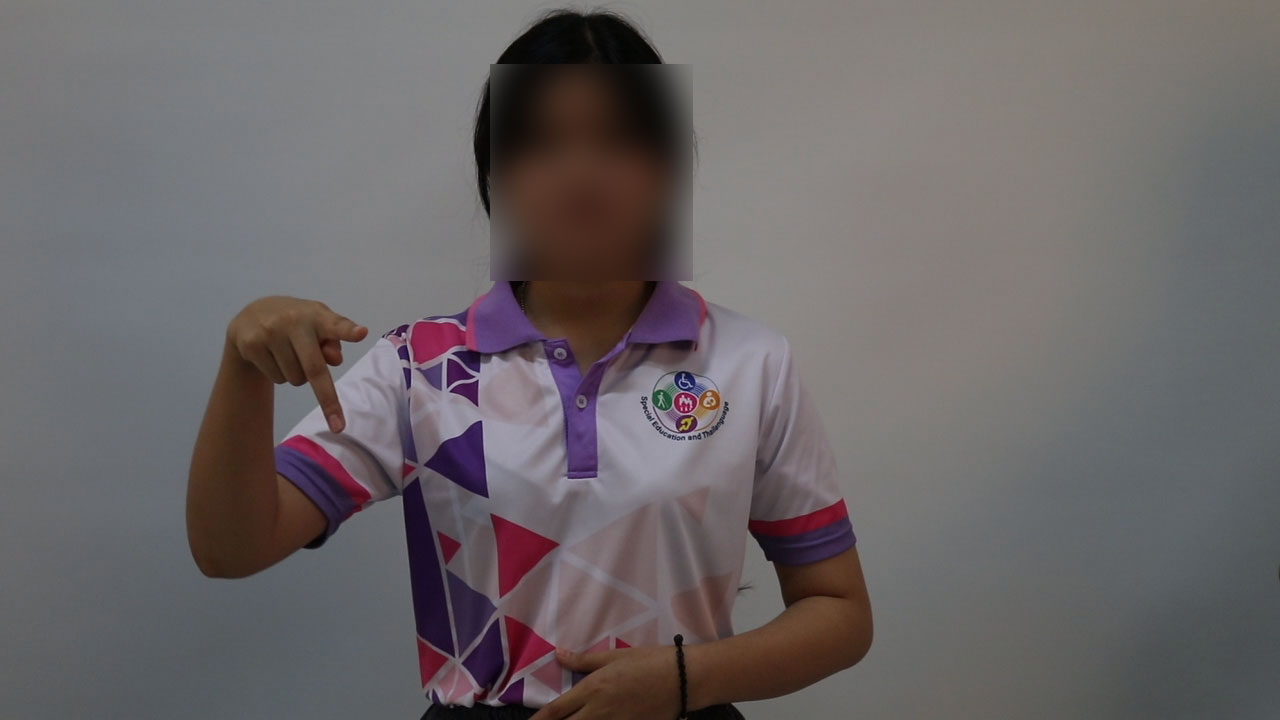por: (216, 268, 374, 445)
